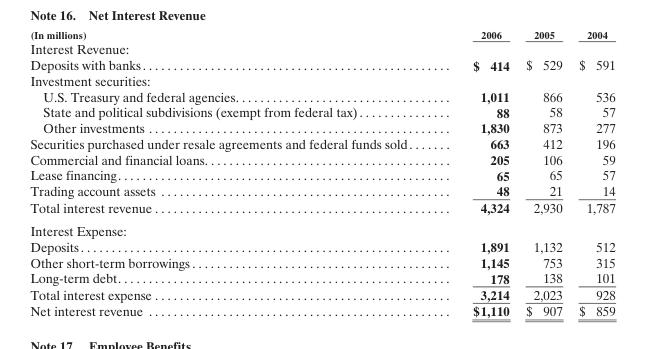table: (29, 28, 614, 318)
table column: (29, 28, 441, 318), (441, 28, 517, 318), (517, 28, 569, 318), (569, 28, 614, 318)
table column header: (29, 28, 614, 40)
table projected row header: (29, 218, 614, 238), (29, 40, 614, 56), (29, 72, 614, 88)
table row: (29, 198, 614, 218), (29, 218, 614, 238), (29, 285, 614, 302), (29, 40, 614, 56), (29, 56, 614, 72), (29, 72, 614, 88), (29, 88, 614, 104), (29, 119, 614, 135), (29, 135, 614, 151), (29, 151, 614, 167), (29, 182, 614, 198), (29, 238, 614, 254), (29, 269, 614, 285), (29, 302, 614, 318), (29, 104, 614, 119), (29, 167, 614, 182), (29, 254, 614, 269), (29, 28, 614, 40)
